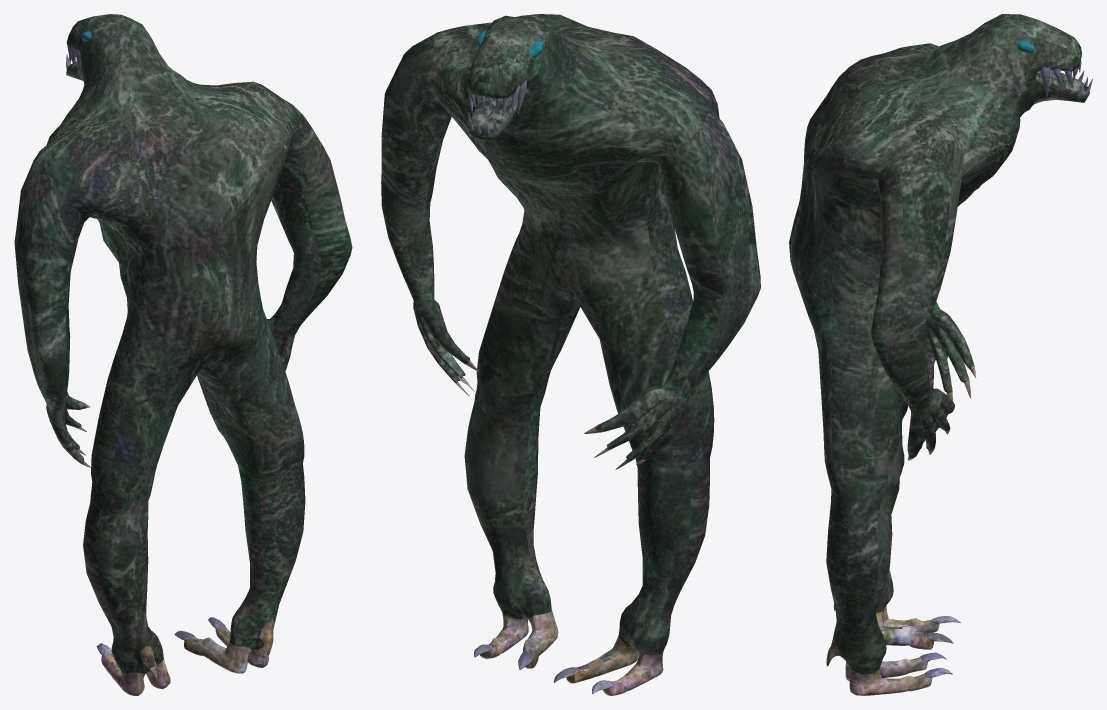
The model's file is Andar.0001.obj.
3 views of the same model, side by side, from view 1: azimuth 30°, elevation 25°; view 2: azimuth 150°, elevation 25°; view 3: azimuth 270°, elevation 25° (orthographic). The views are drawn at different scales.
Parts seen in each view (by area): view 1: polySurface28; view 2: polySurface28; view 3: polySurface28.
Boxes of the visible parts, box(x1,y1,x2,y2) form: polySurface28: box(14, 14, 352, 695); polySurface28: box(381, 14, 760, 695); polySurface28: box(789, 14, 1092, 695).
Size of the model in its own units: 1.26 by 2.32 by 0.9975.
4 materials, 4 textured.
